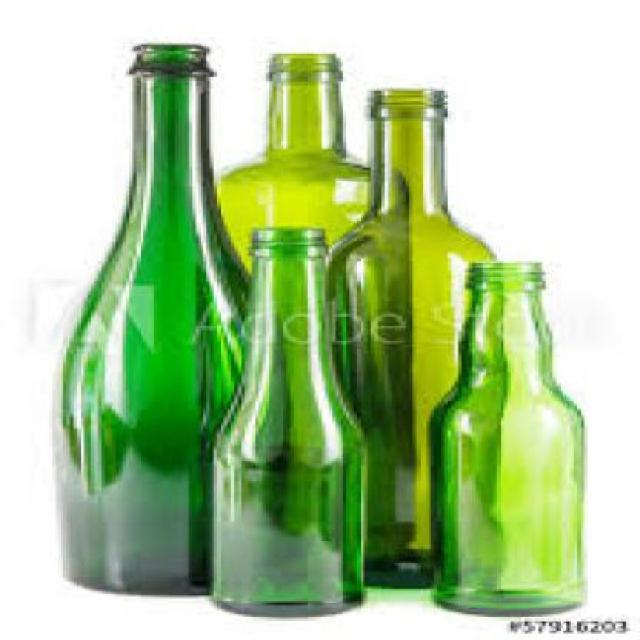kaca: (52, 37, 248, 595), (326, 86, 491, 586), (206, 230, 365, 616), (423, 258, 577, 614), (214, 51, 363, 263)
